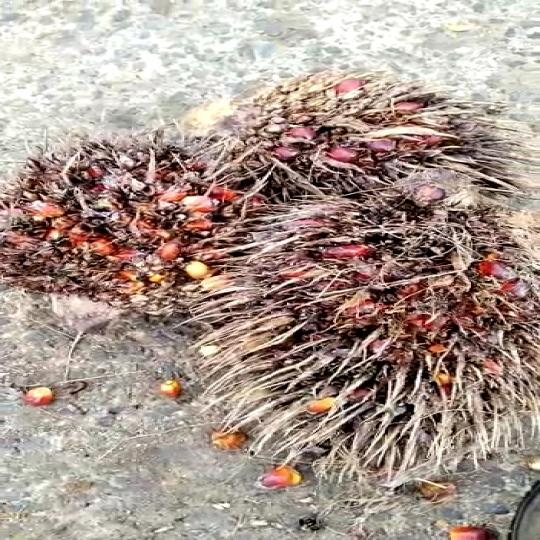terlalu masak: (214, 163, 540, 491), (0, 122, 250, 323), (216, 81, 518, 214)
